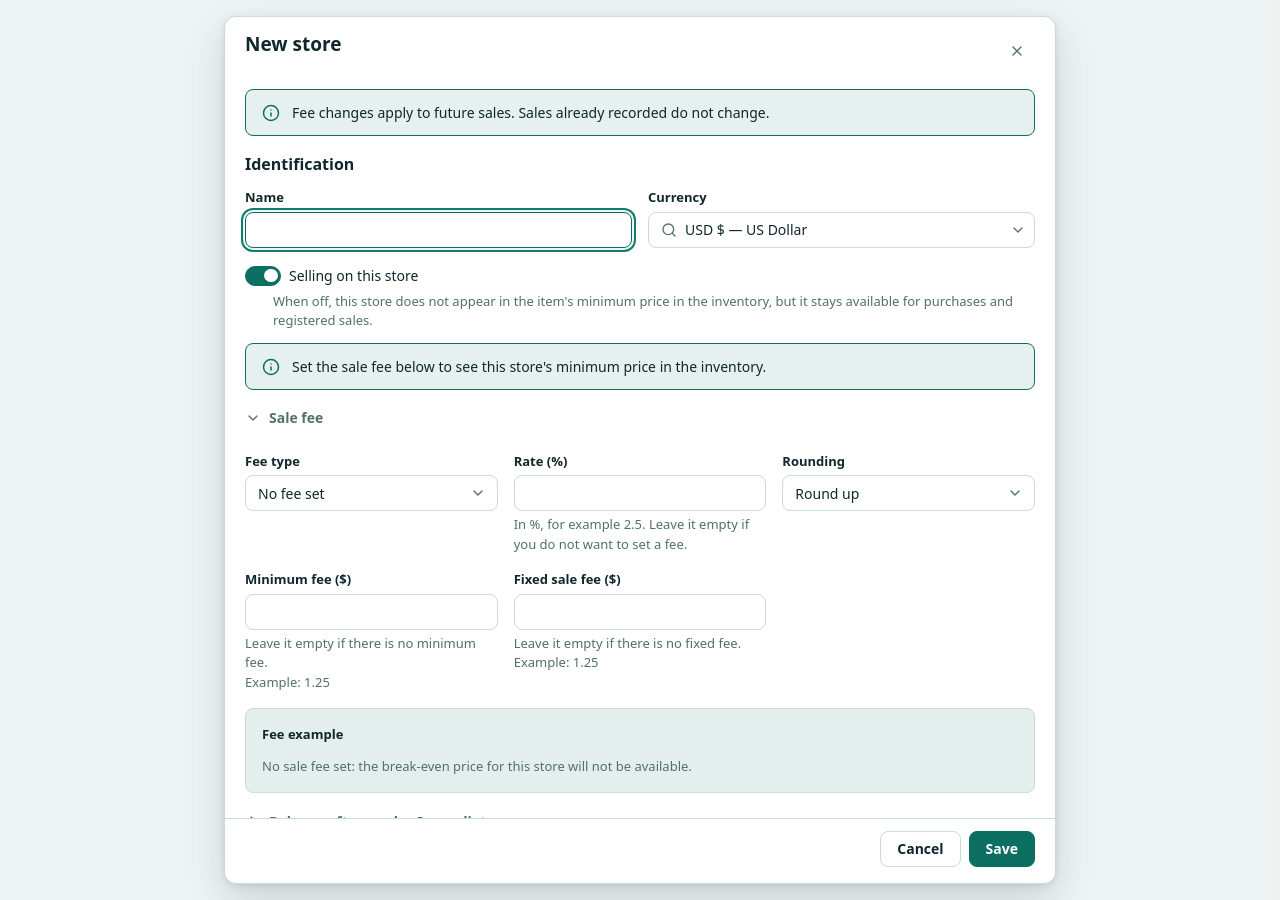
it: exemplo ao vivo da taxa › ADDED usa a frase do comprador
The image size is (1280, 900).
Select "Added to the price" in the dropdown labelled "Fee type": x=371, y=493 [245,475,498,511]
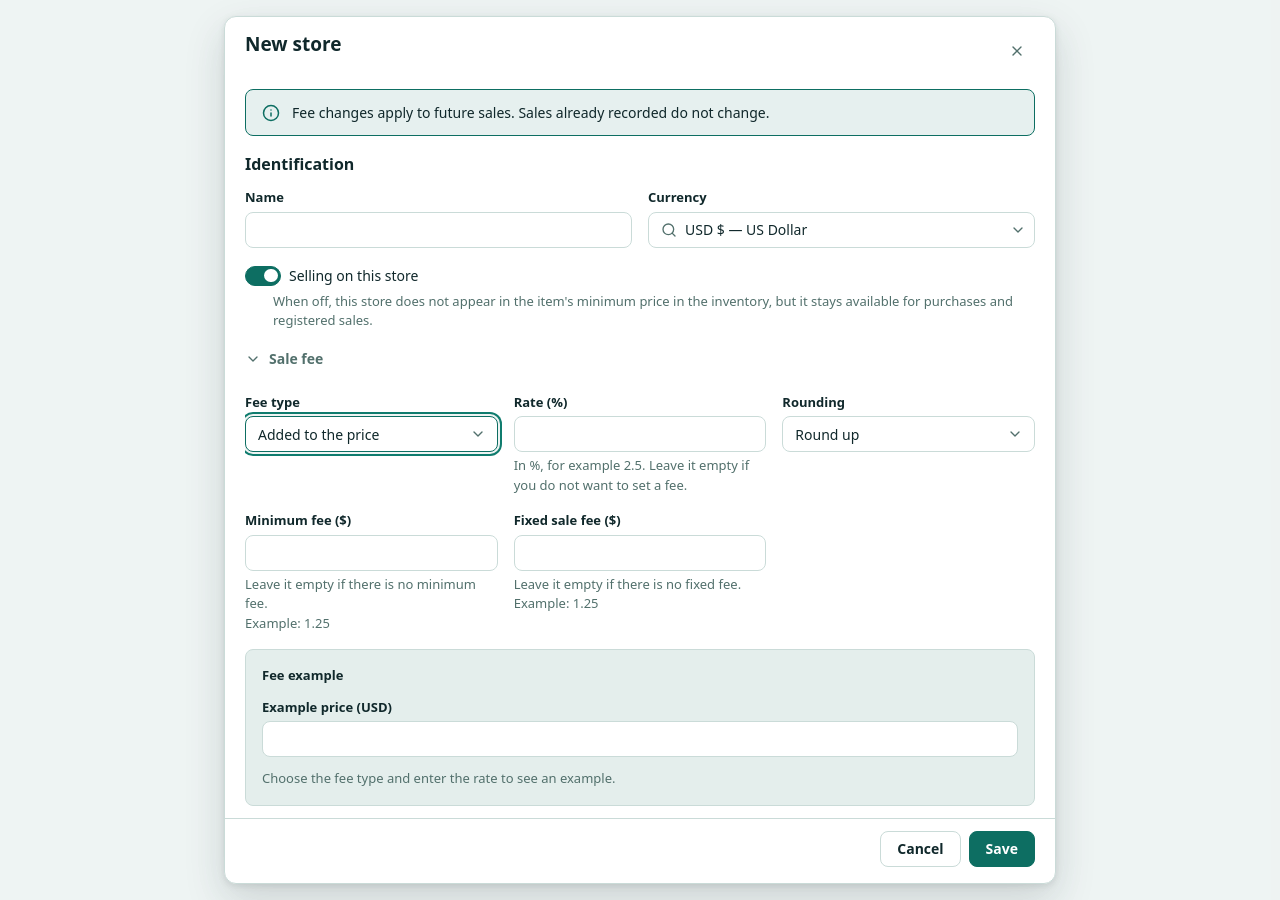
In the field labelled "Rate (%)": x=640, y=434 [527,417,753,451], type "2"
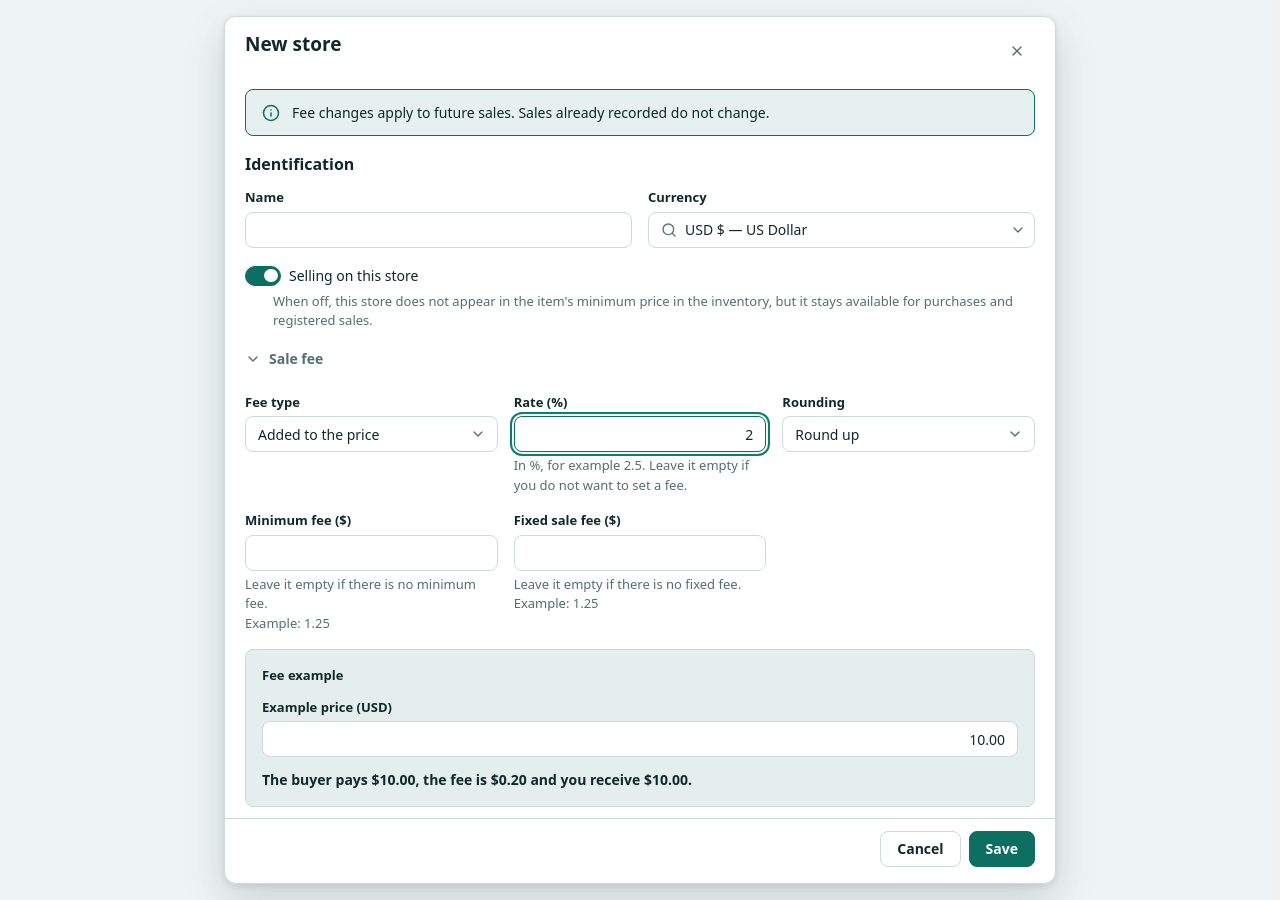
expect the text "The buyer pays $10.00, the fee is $0.20 and you receive $10.00." is shown: met, box [262,770,692,789]
